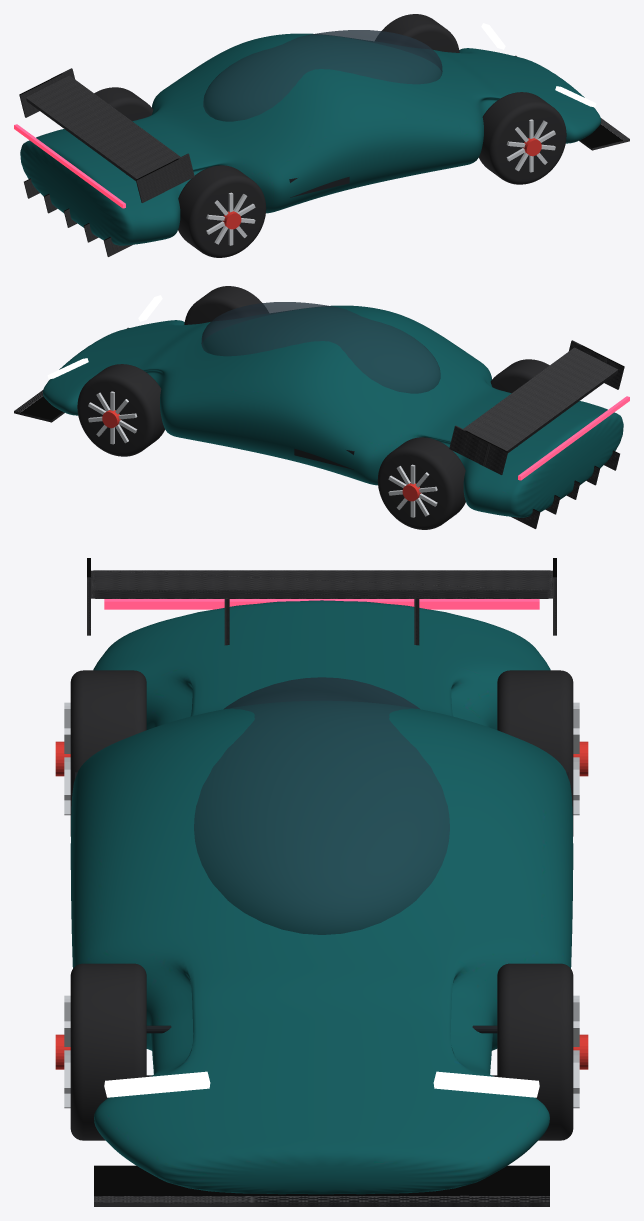
The model's file is hypercar_x.glb.
3 renders of one model, top to bottom at view 1: azimuth 30°, elevation 25°; view 2: azimuth 150°, elevation 25°; view 3: azimuth 270°, elevation 25°, orthographic. The views are drawn at different scales.
Parts seen in each view (by area): view 1: HX_Body, HX_Canopy, HX_Wing, HX_Tire_RR, HX_Tire_FR, HX_Tire_FL, HX_Endplate_R, HX_Tire_RL, HX_Taillight, HX_Splitter, HX_Endplate_L; view 2: HX_Body, HX_Canopy, HX_Wing, HX_Tire_RL, HX_Tire_FL, HX_Tire_FR, HX_Endplate_L, HX_Tire_RR, HX_Taillight, HX_Splitter, HX_Endplate_R; view 3: HX_Body, HX_Canopy, HX_Wing, HX_Tire_FL, HX_Tire_FR, HX_Splitter, HX_Tire_RR, HX_Tire_RL, HX_Taillight, HX_Headlight_1, HX_Headlight_-1.
Boxes of the visible parts, x1,y1,x2,y2 form: HX_Body: (20,33,600,245); HX_Canopy: (203,30,442,121); HX_Wing: (25,75,180,180); HX_Tire_RR: (178,165,266,257); HX_Tire_FR: (479,92,566,184); HX_Tire_FL: (375,14,459,52); HX_Endplate_R: (136,153,194,202); HX_Tire_RL: (94,87,153,121); HX_Taillight: (14,124,125,208); HX_Splitter: (515,55,629,150); HX_Endplate_L: (19,68,75,117); HX_Body: (43,305,623,517); HX_Canopy: (201,302,440,393); HX_Wing: (463,347,618,452); HX_Tire_RL: (377,437,465,529); HX_Tire_FL: (77,364,164,456); HX_Tire_FR: (184,286,268,324); HX_Endplate_L: (449,425,507,474); HX_Tire_RR: (490,359,549,393); HX_Taillight: (518,396,629,480); HX_Splitter: (14,327,128,422); HX_Endplate_R: (568,340,624,389); HX_Body: (70,600,573,1194); HX_Canopy: (194,677,449,934); HX_Wing: (91,570,552,598); HX_Tire_FL: (497,963,573,1140); HX_Tire_FR: (70,963,146,1140); HX_Splitter: (94,1165,549,1206); HX_Tire_RR: (70,670,146,836); HX_Tire_RL: (497,670,573,836); HX_Taillight: (104,599,539,609); HX_Headlight_1: (433,1071,539,1097); HX_Headlight_-1: (104,1071,210,1097).
Bounding box in the file's own units: 4.71 × 1.14 × 2.14.
Materials: 10 (4 with a texture image).
